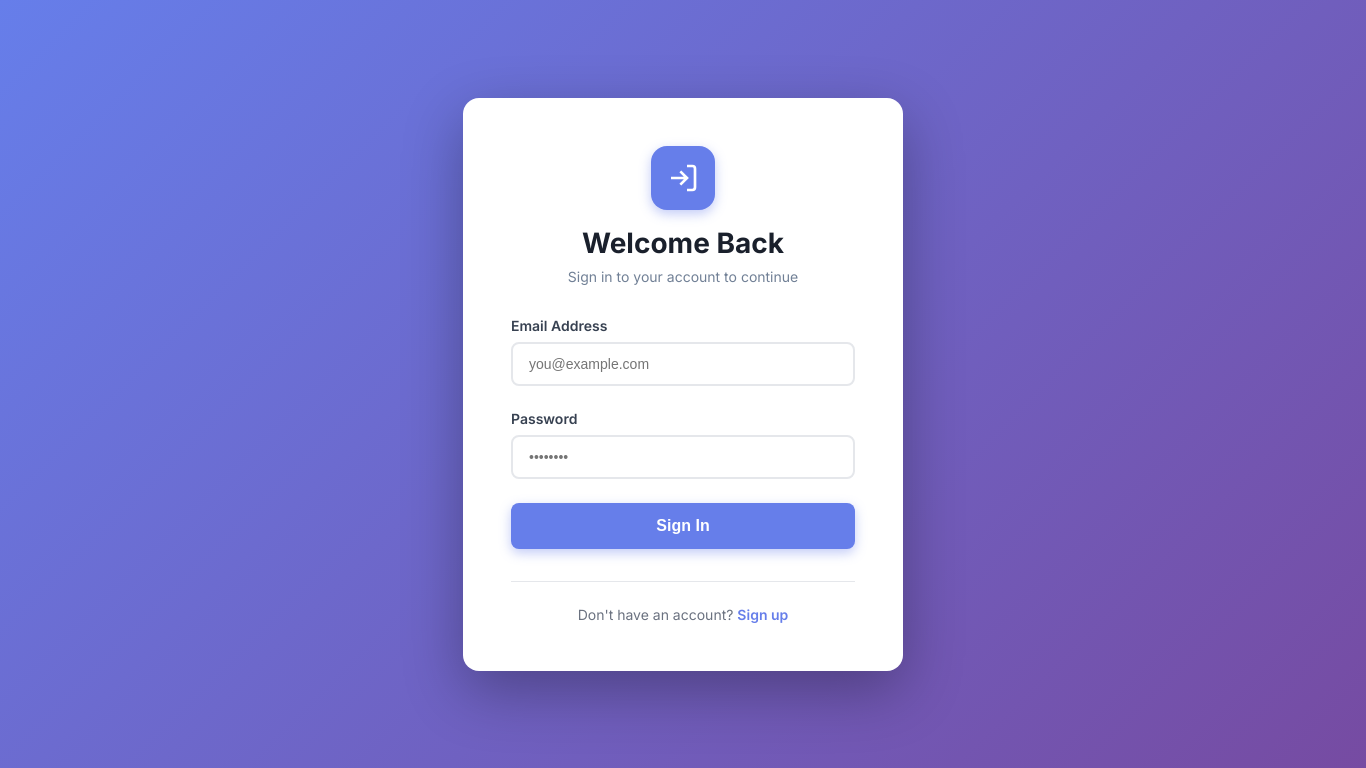
SigninPage - Unit Tests › displays validation error for empty password
In the field labelled "Email Address": (683, 364) [511,342,855,386], type "test@example.com"
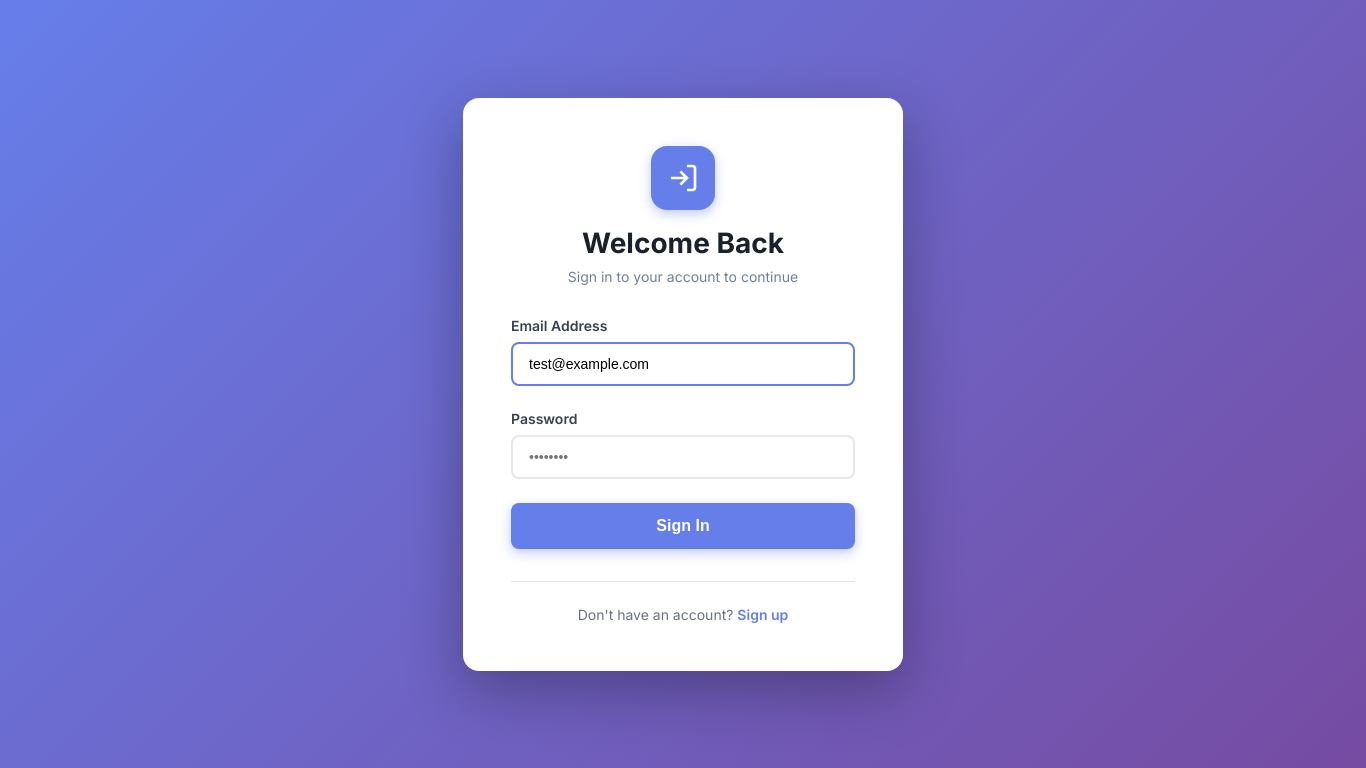
Click the button "Sign In": click(683, 526) [511,502,855,548]
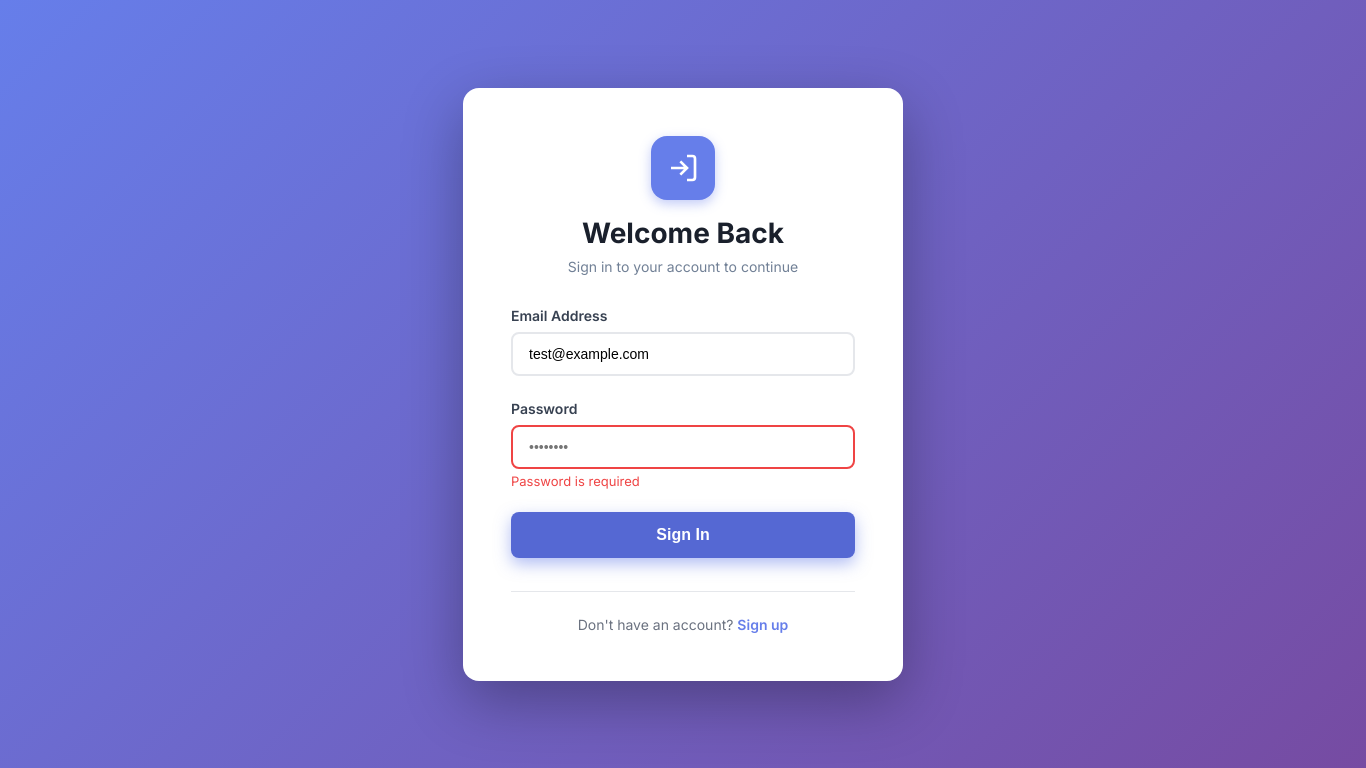
Result: the text "Password is required" is shown at [511,472,640,488]
